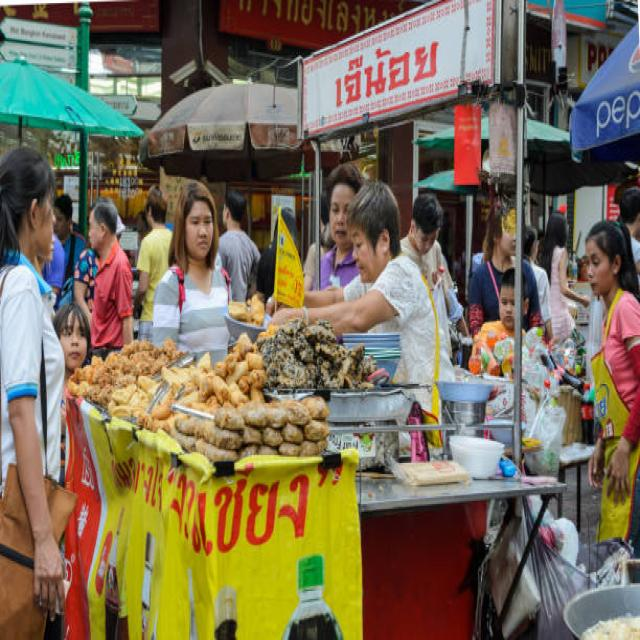Emperan: (54, 279, 575, 640)
